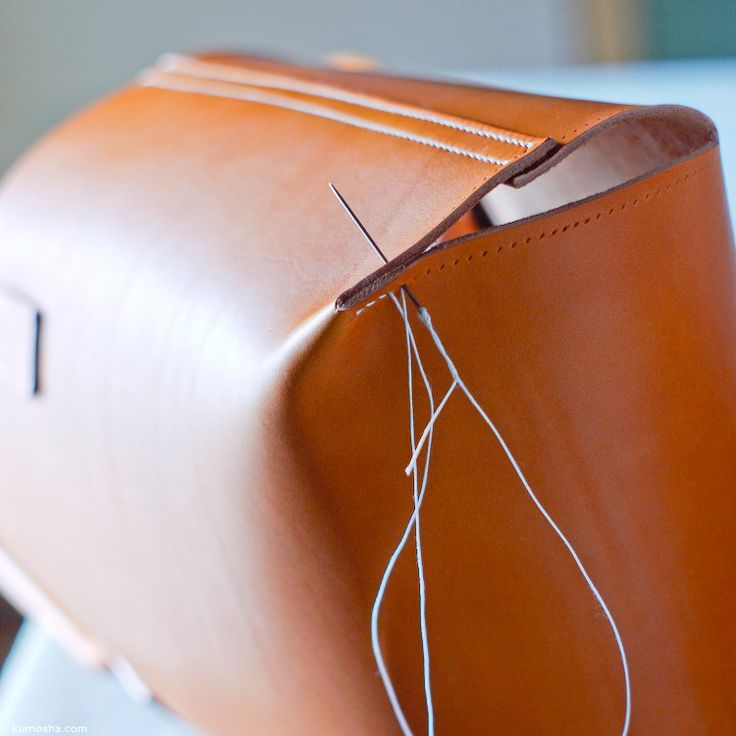cuero: (3, 44, 736, 736)
